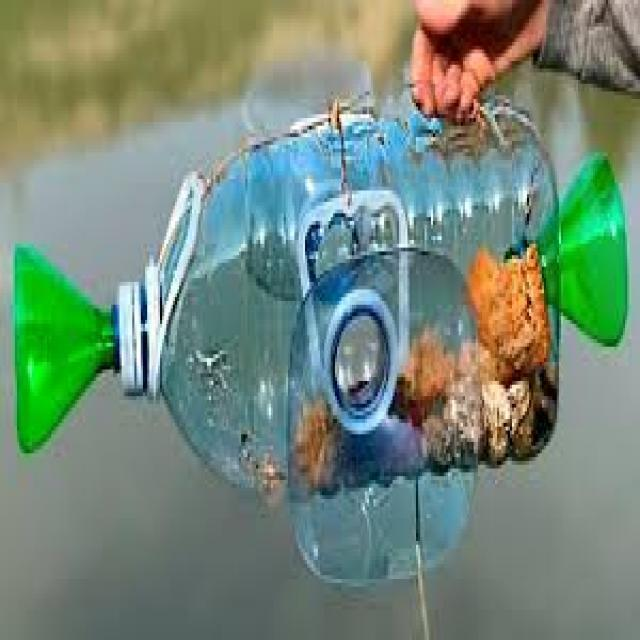Plastic: (15, 89, 627, 586)
